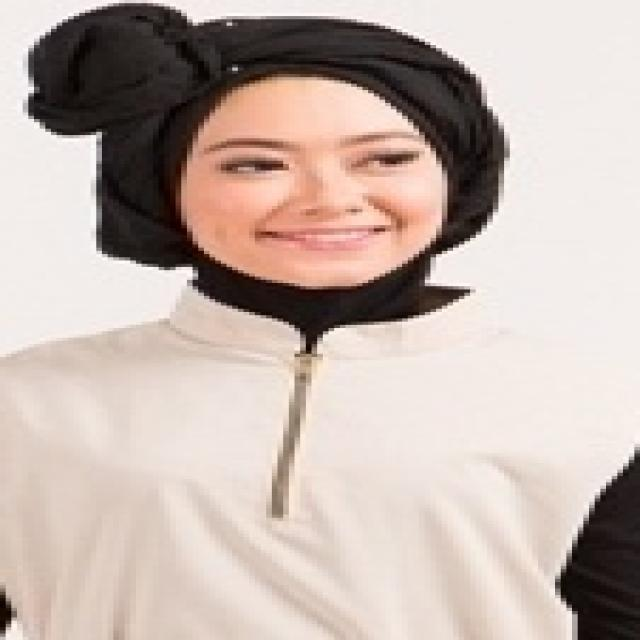head: (110, 23, 519, 295)
